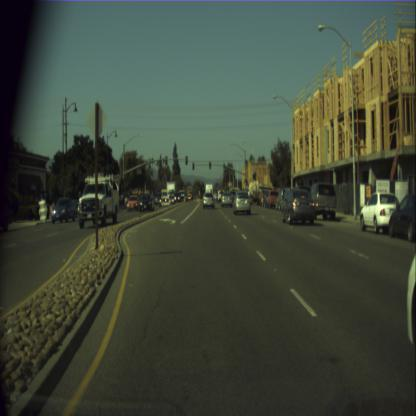Green: (245, 179, 247, 184), (209, 161, 210, 168), (223, 164, 224, 170), (253, 174, 254, 180)
RedLeft: (192, 162, 194, 170)
